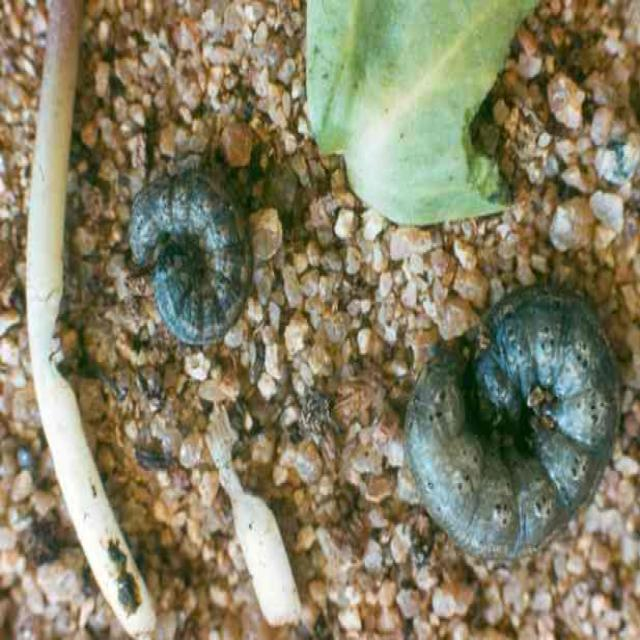Cutworm: (401, 287, 619, 588), (116, 162, 244, 320)
